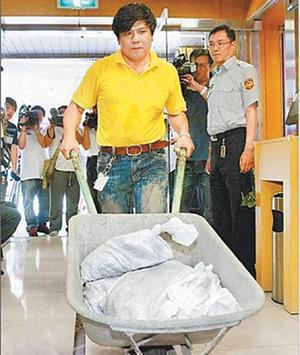person: (62, 2, 195, 215)
